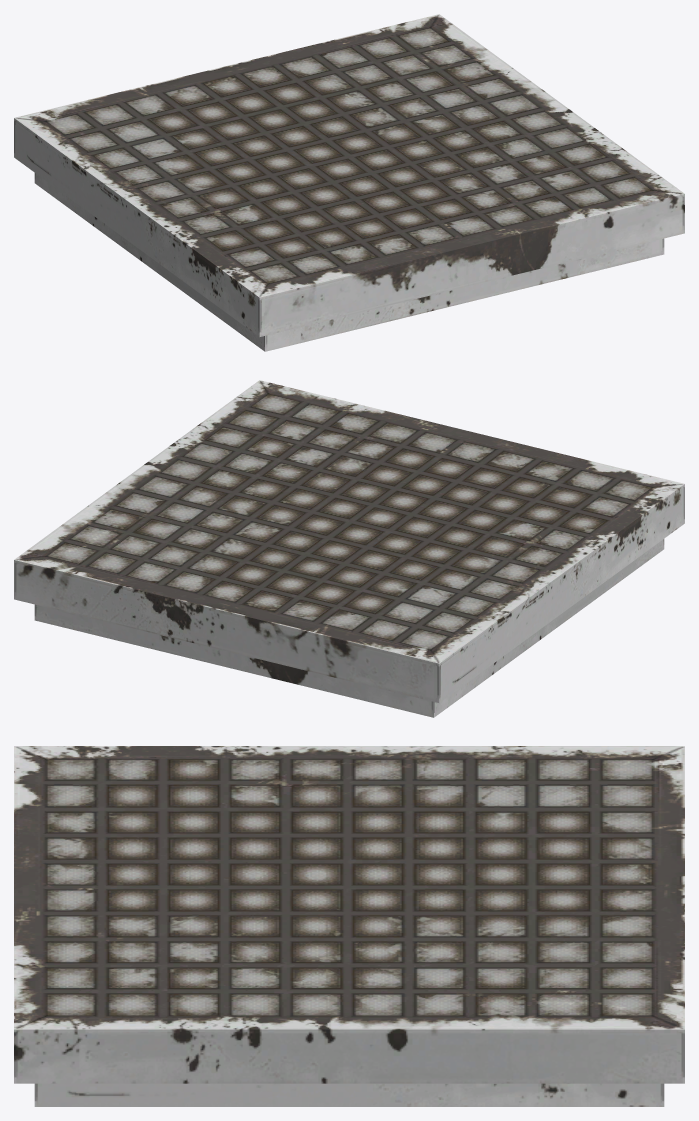
The model's file is S_HatchRooftop_02.dae.
3 views of the same model, one above another, from view 1: azimuth 30°, elevation 25°; view 2: azimuth 150°, elevation 25°; view 3: azimuth 270°, elevation 25° (orthographic). The views are drawn at different scales.
Parts seen in each view (by area): view 1: S_HatchRooftop_02.003; view 2: S_HatchRooftop_02.003; view 3: S_HatchRooftop_02.003.
Boxes of the visible parts, x1=… form: S_HatchRooftop_02.003: x1=14, y1=14, x2=684, y2=351; S_HatchRooftop_02.003: x1=14, y1=380, x2=684, y2=717; S_HatchRooftop_02.003: x1=14, y1=746, x2=684, y2=1106.
Size of the model in its own units: 161 by 161 by 22.78.
